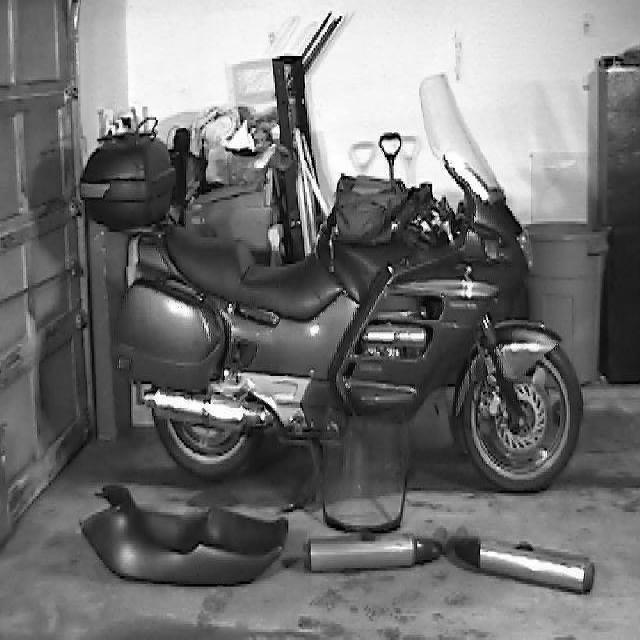Motorcycle: (111, 77, 581, 530)
